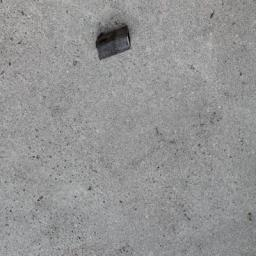FOD: (94, 23, 134, 64)
